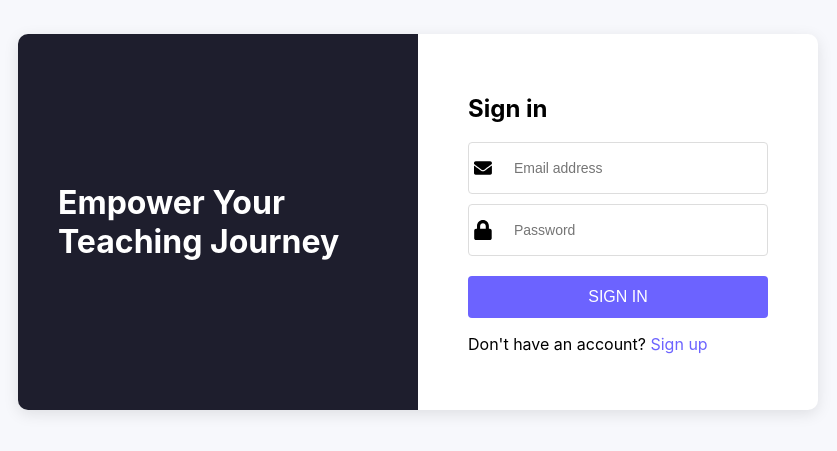
Scenario: FacultyLogin › displays error message when the email is correct but password is incorrect
// Simulate user input with correct email and incorrect password
Type "test@example.com" into the field with placeholder "Email address" at [632, 168], box [502,148,762,188]
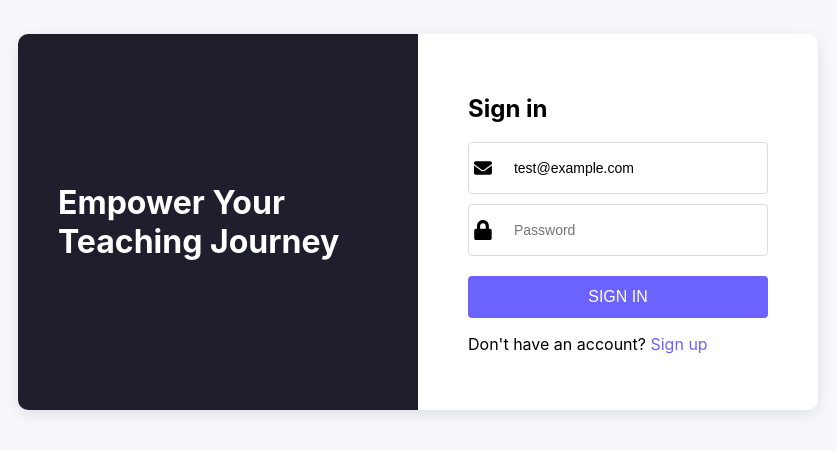
Type "wrongpassword" into the password field with placeholder "Password" at [632, 230], box [502,210,762,250]
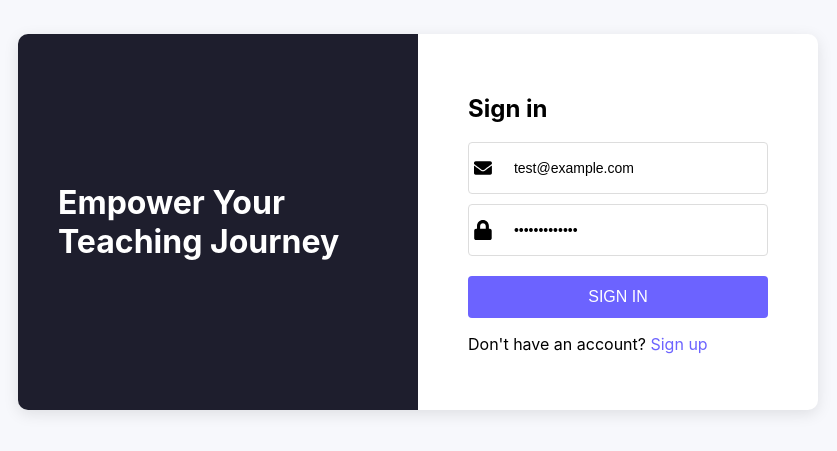
// Simulate form submission
Click the button "SIGN IN" at [618, 297], box [468,276,768,318]
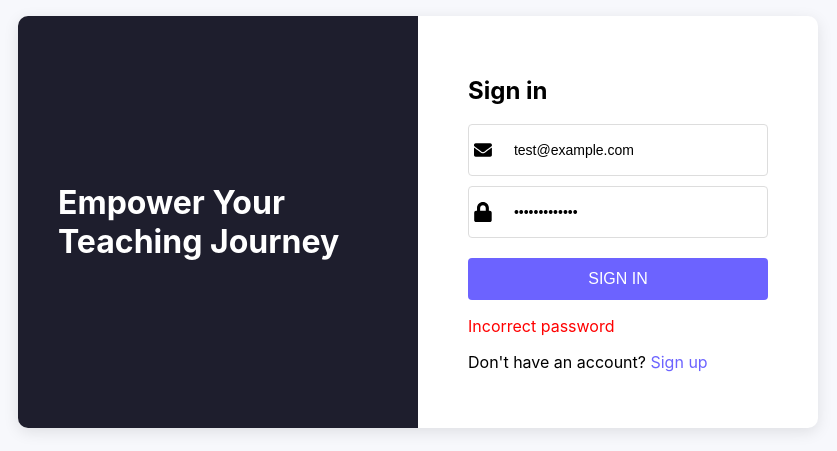
Expected: the text "Incorrect password" is shown, [468,316,614,336]
